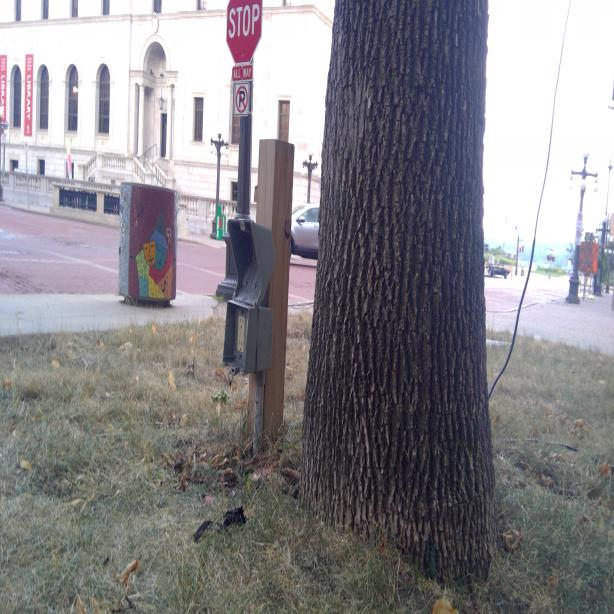typeb: (237, 315, 246, 331), (236, 337, 244, 353)
